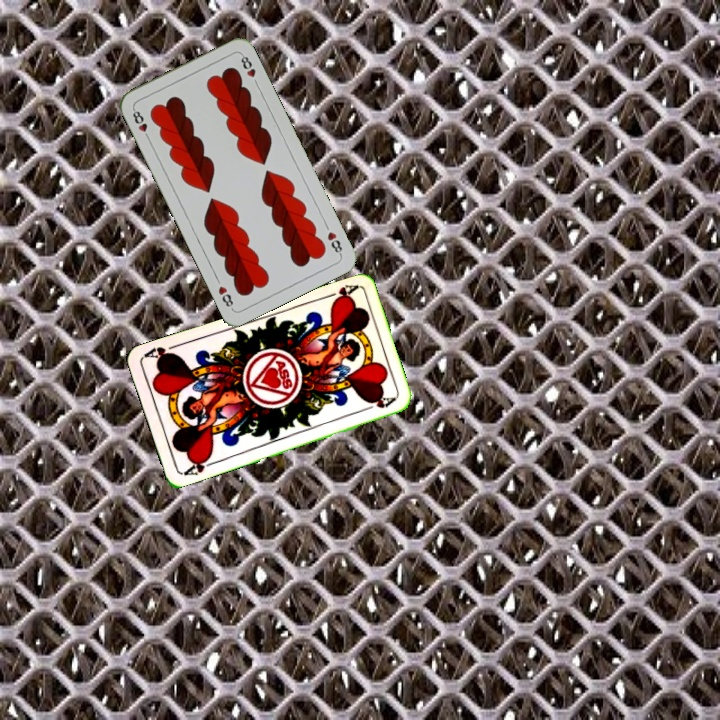H8: (128, 104, 153, 142), (323, 227, 345, 258)
HA: (179, 452, 219, 478), (320, 280, 360, 305)
